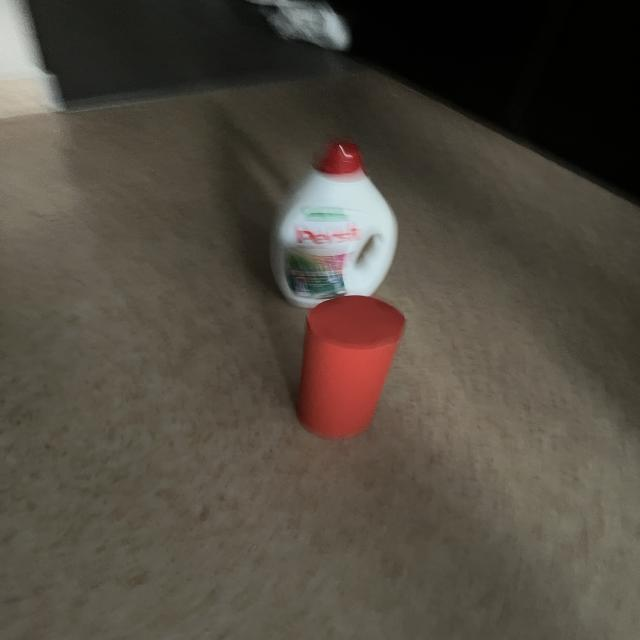przeszkoda: (297, 296, 405, 439)
